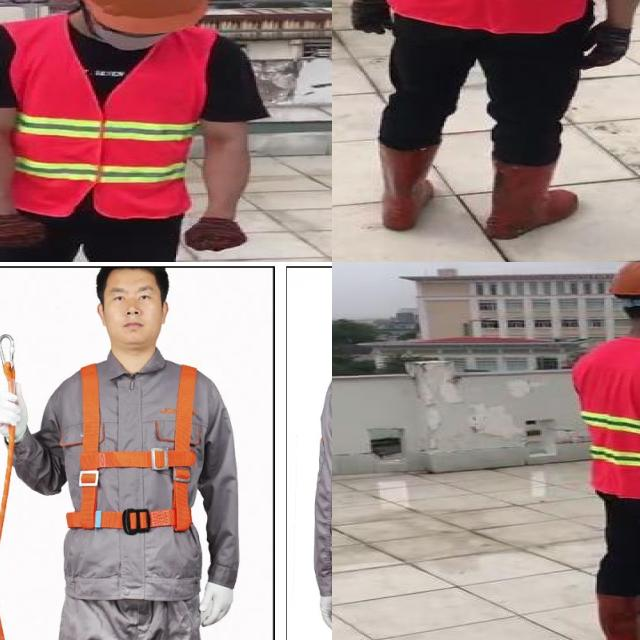Harness: (65, 363, 199, 534)
boots: (489, 152, 579, 240), (382, 141, 433, 231), (594, 589, 640, 640)
hand_glove: (583, 23, 629, 72), (183, 217, 245, 250), (348, 0, 390, 35), (0, 214, 42, 247)
head_helmet: (67, 0, 213, 35), (603, 262, 640, 302)
person: (332, 0, 640, 248), (0, 0, 266, 262), (553, 262, 640, 640)
vest: (0, 19, 206, 217), (568, 338, 640, 499)
